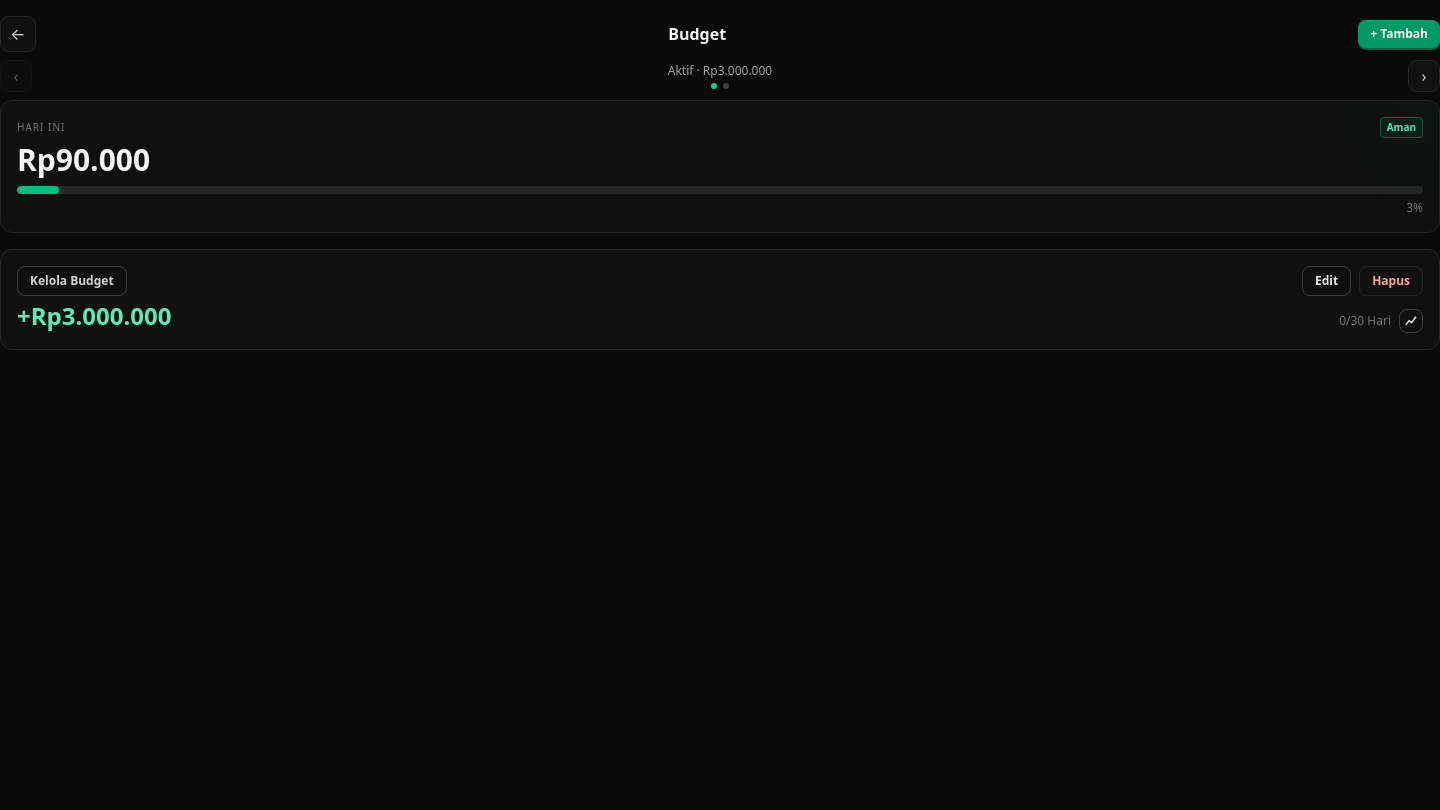
Test: BudgetScreen — history navigation + forecast › 'Pakai lagi' on a past card opens the prefilled form without moving focus
The image size is (1440, 810).
Click the button with test id "budget-nav-next": click(1424, 76) x1=1408 y1=60 x2=1439 y2=92
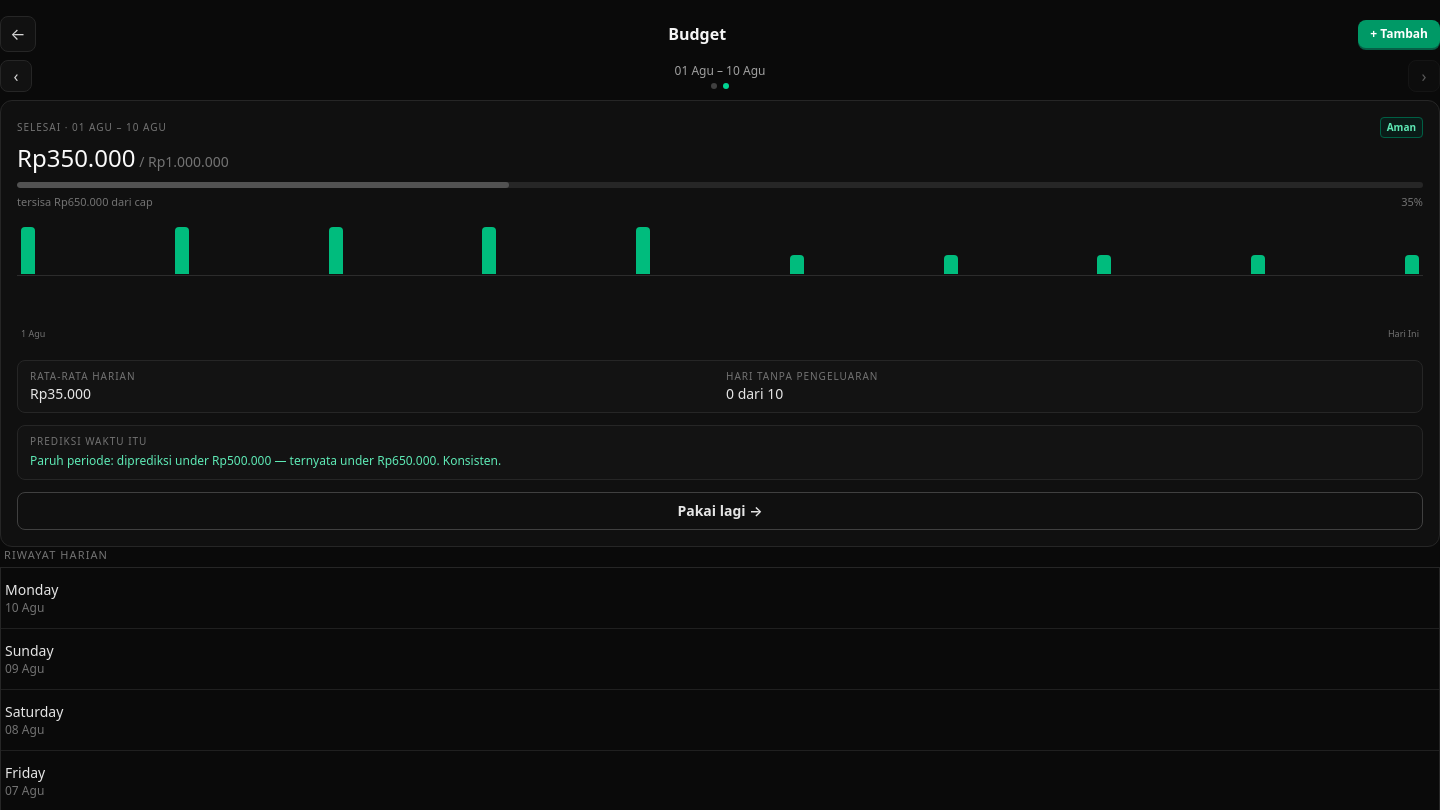
Click the button with test id "budget-past-use-again": click(720, 510) x1=17 y1=492 x2=1423 y2=530
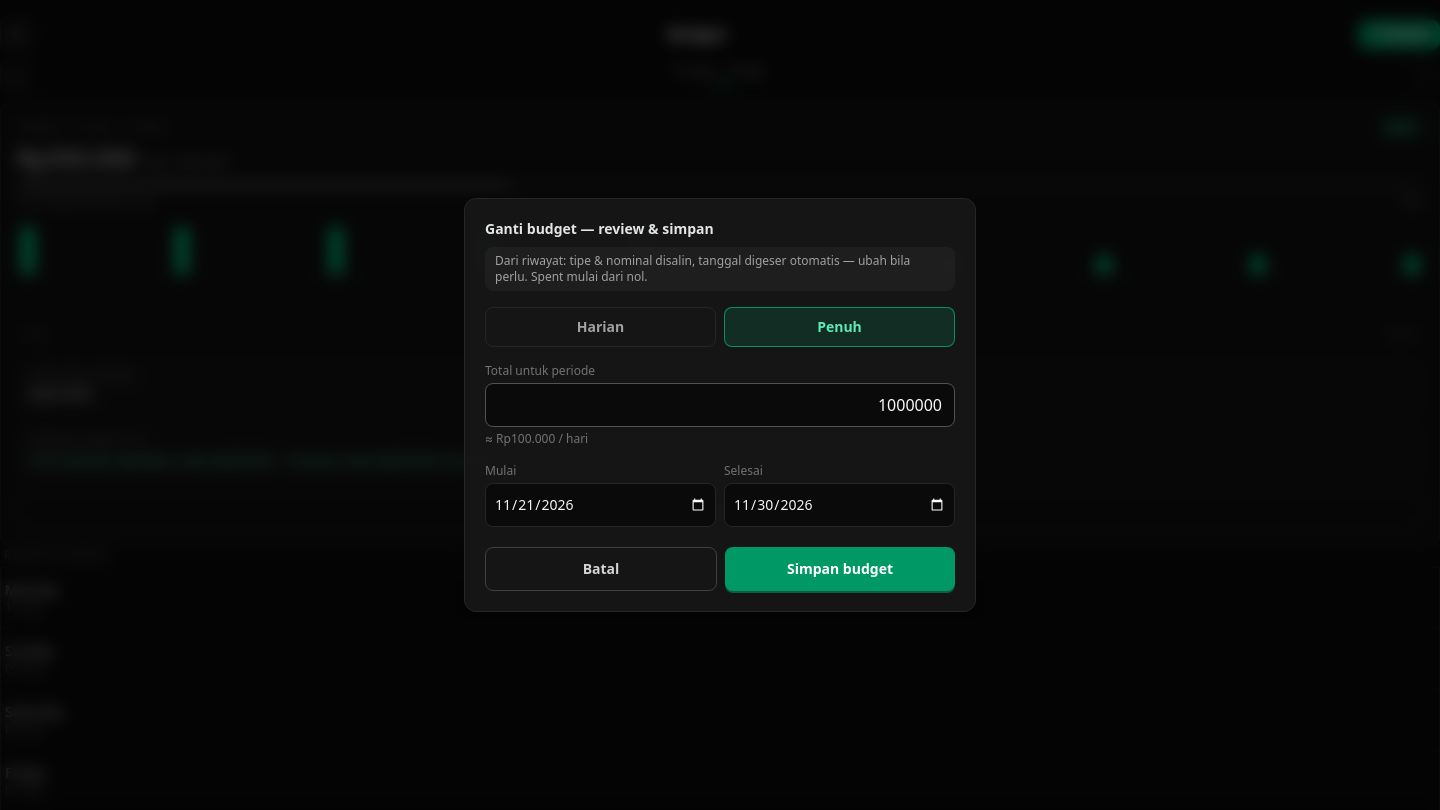
Expected: the text with test id "budget-nav-label" does not show "Aktif"
Expected: the text with test id "budget-prefill-note" is shown, x1=485 y1=247 x2=955 y2=291
